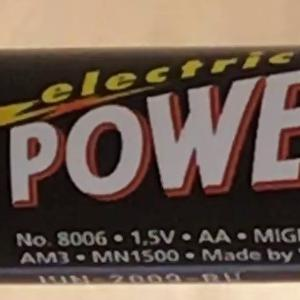keyword: (122, 221, 184, 253)
